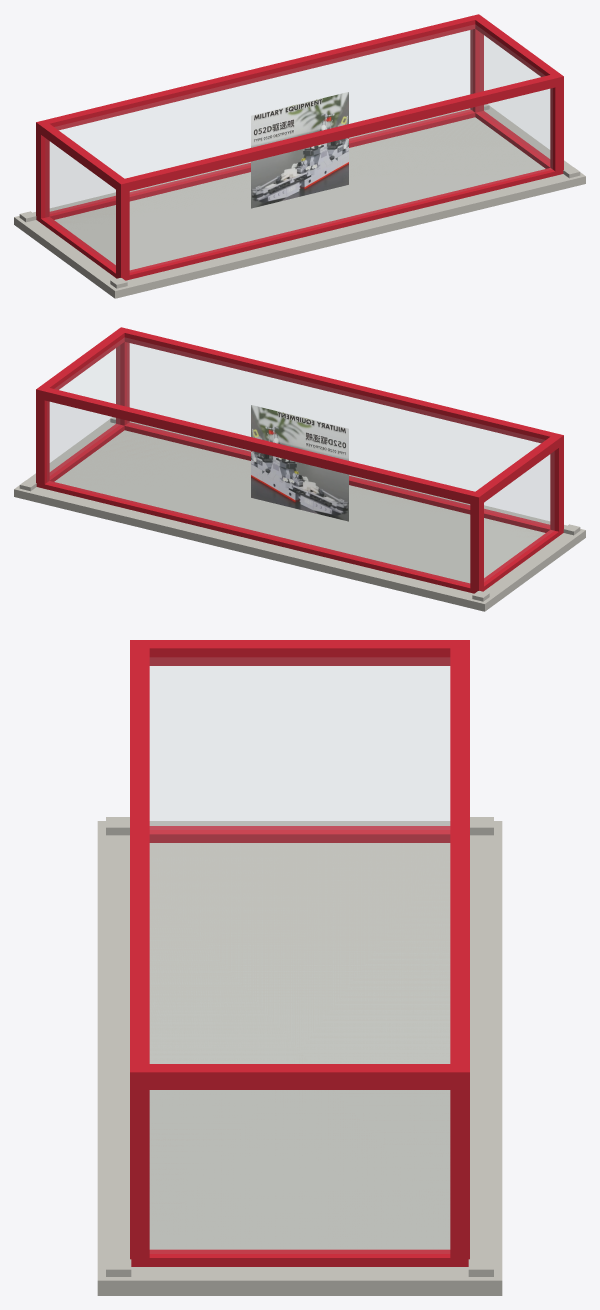
File: type-052d-destroyer.glb
The picture shows the model from 3 angles, top to bottom: view 1: azimuth 30°, elevation 25°; view 2: azimuth 150°, elevation 25°; view 3: azimuth 270°, elevation 25°; orthographic projection. The views are drawn at different scales.
Bounding box in the file's own units: 0.387 × 0.0825 × 0.144.
4 materials, 1 textured.
